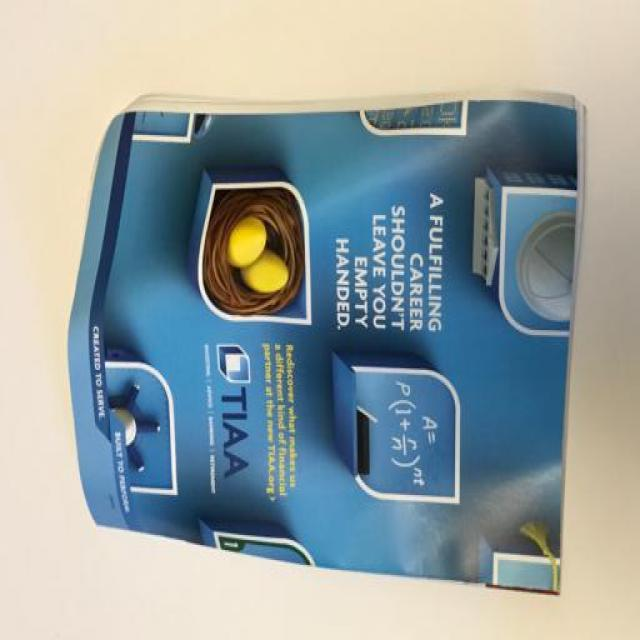paper: (64, 90, 595, 617)
